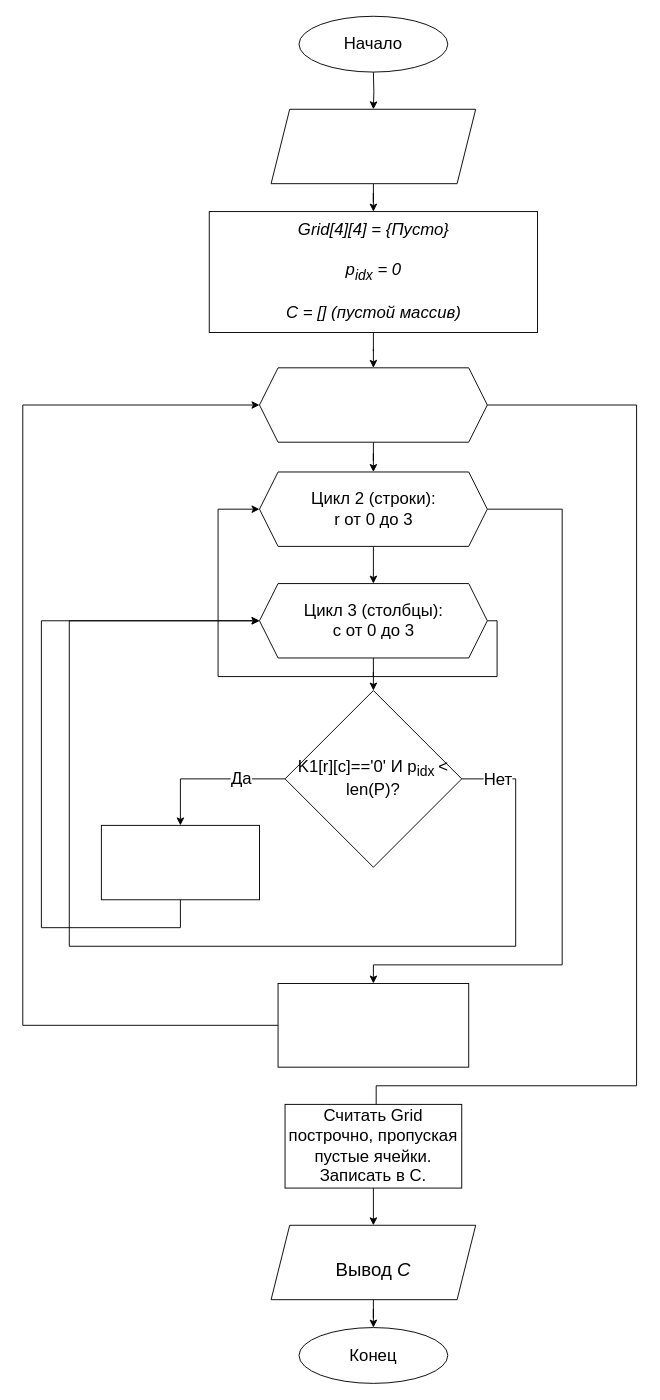
This 660x1400 diagram has some shape labels left out. The box of each missing label's shape, as (x1, y1, x2, y2) in pixels:
Grid[r][c] = P[p idx ] p idx = p idx +1: (100, 824, 259, 900)
Ввод P, K1: (270, 108, 476, 184)
Поворот K1 на 90 град: Temp[r][c] = K1[3-c][r] K1 = Temp: (277, 983, 469, 1067)
Цикл 1 (повороты): rot от 0 до 3: (259, 367, 487, 442)
